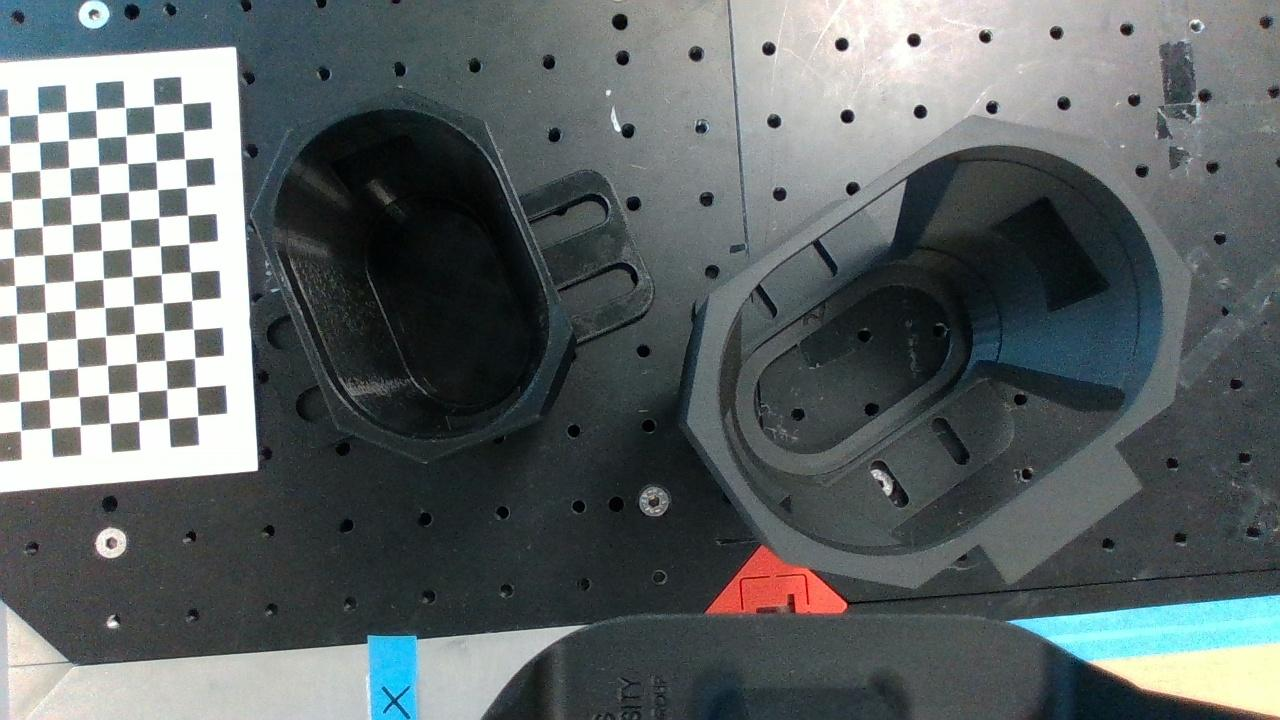big_interface: (685, 114, 1194, 590)
small_interface: (251, 88, 575, 463)
